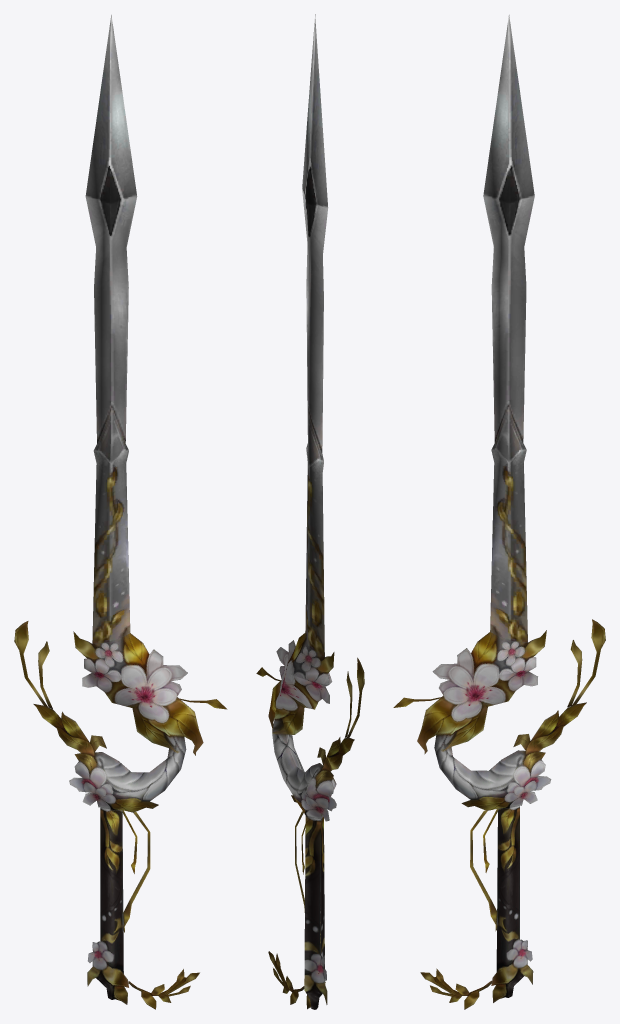
3 renders of one model, left to right at view 1: azimuth 90°, elevation 25°; view 2: azimuth 210°, elevation 25°; view 3: azimuth 270°, elevation 25°, orthographic.
Visible parts, largest first — view 1: weapon_001; view 2: weapon_001; view 3: weapon_001.
Boxes of the visible parts, x1,y1,x2,y2 form: weapon_001: (14, 15, 227, 1009); weapon_001: (256, 14, 364, 1009); weapon_001: (393, 15, 605, 1009).
Bounding box in the file's own units: 4.01 × 99.48 × 19.29.
Materials: 1 (1 with a texture image).
